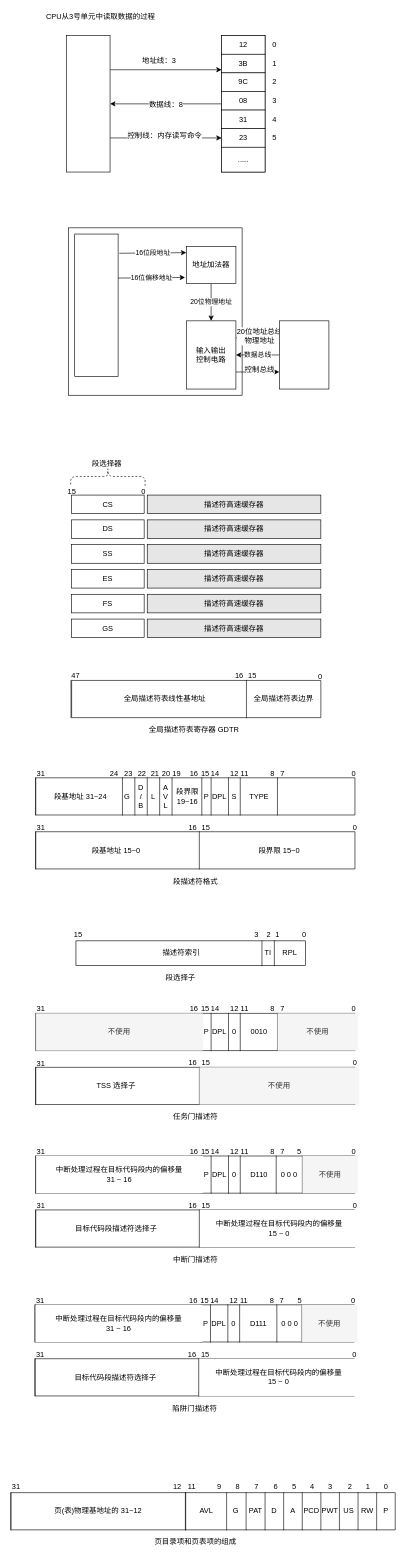
This 406x1559 diagram has some shape labels left out. Here are the shapes that lost their labels. From the top down, the centre of each, then its label:
At point (96, 305): "其它部件".
At point (304, 354): "内存".
